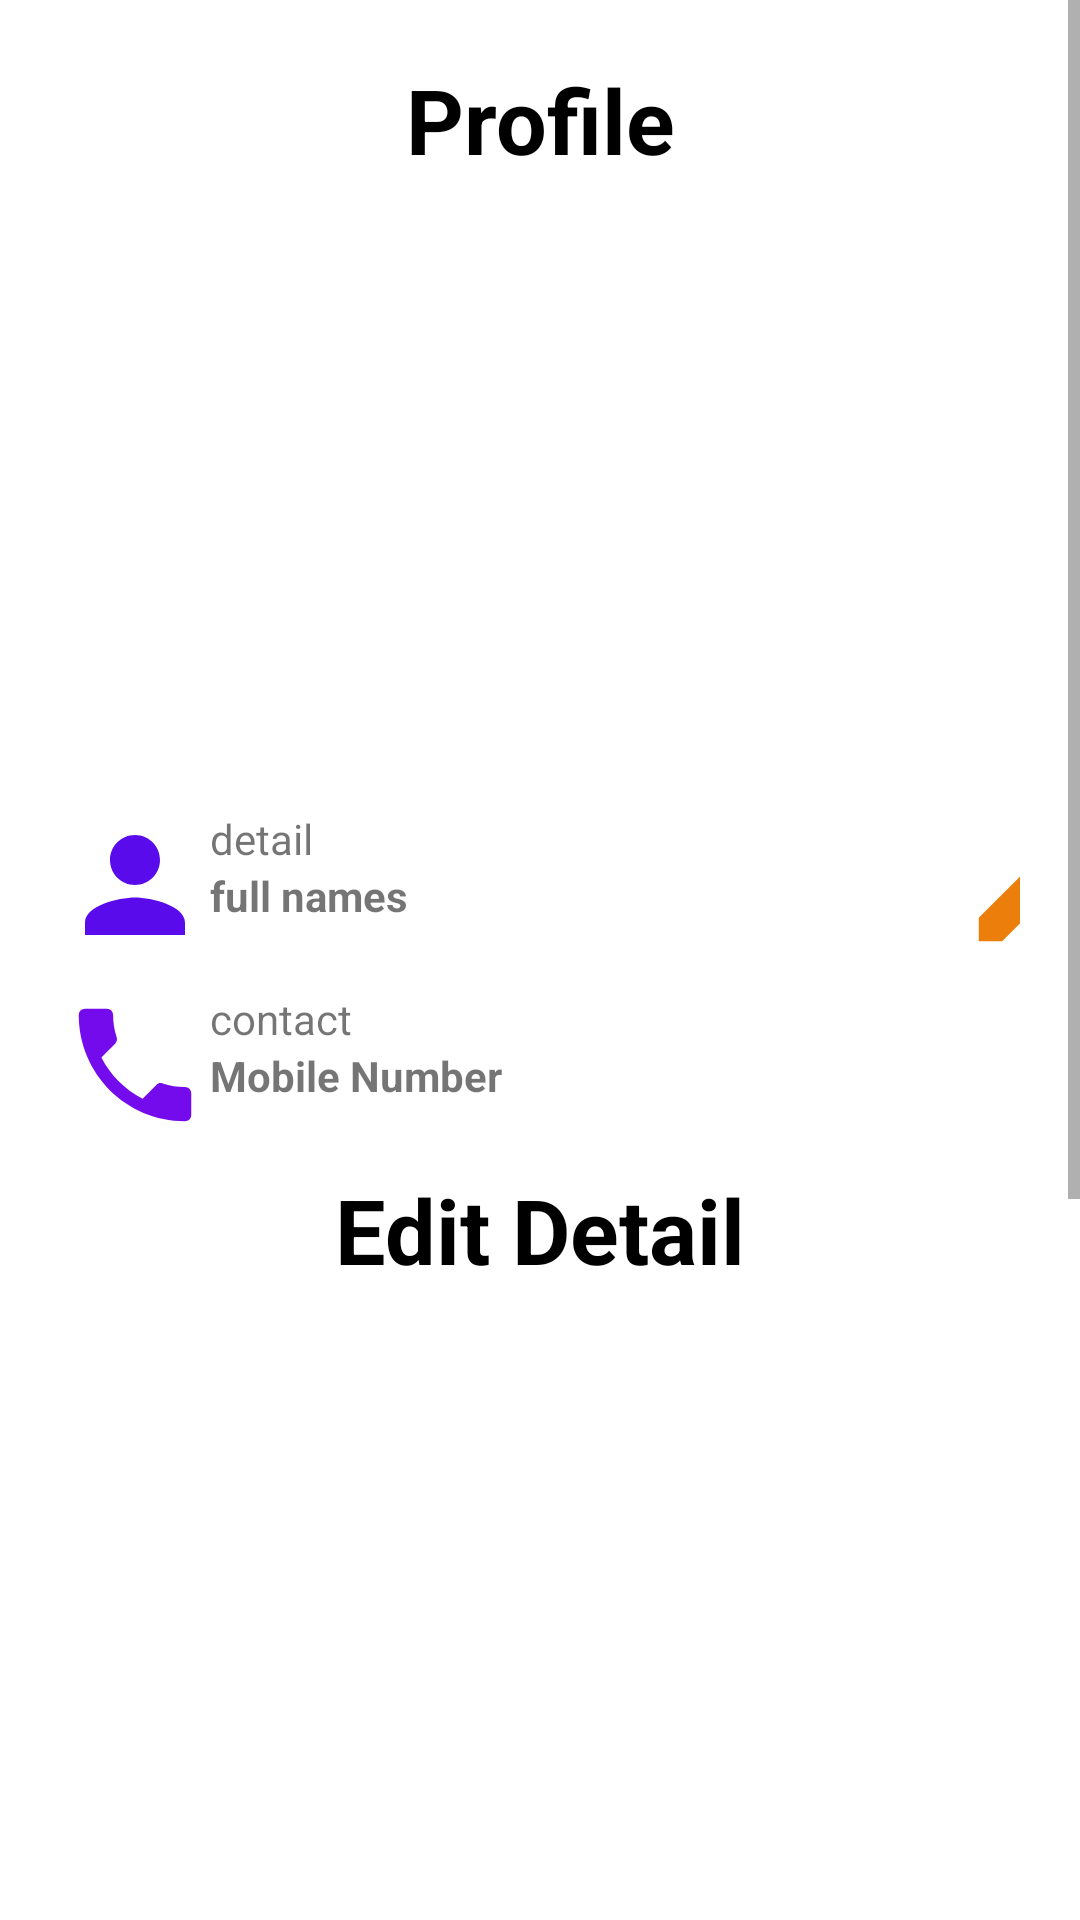

Where icons sit on this 1080 × 1920 app screen, as (x1, y1, x2, y2):
person: (85, 835, 185, 935)
phone: (78, 1008, 192, 1122)
